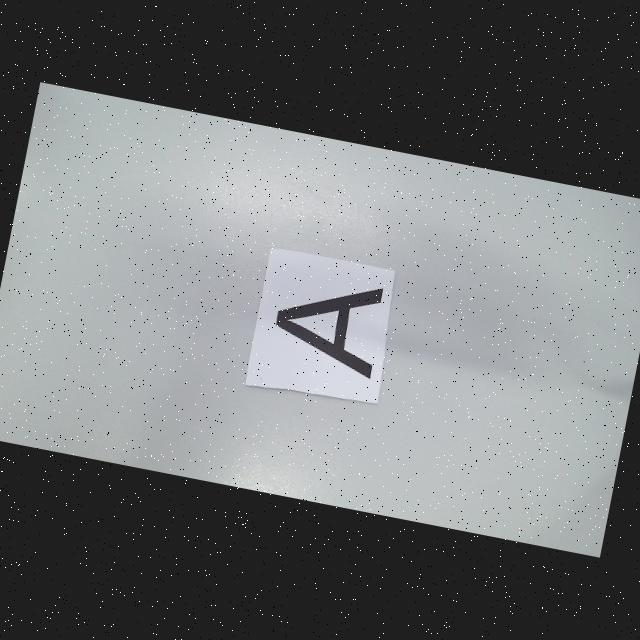FAKE: (269, 270, 388, 379)
